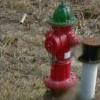Hydrant: (33, 4, 86, 99)
